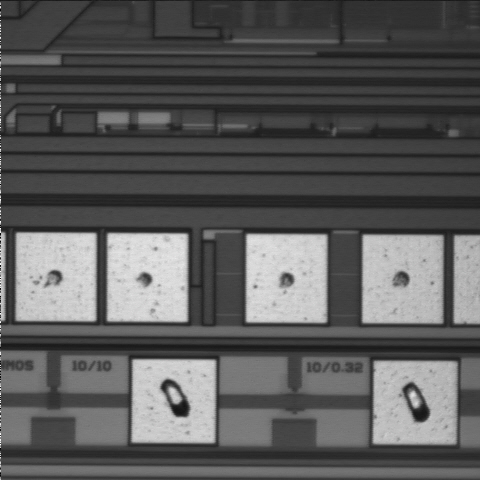pad: (16, 233, 96, 321), (108, 234, 187, 322), (247, 234, 326, 322), (363, 235, 442, 323), (132, 360, 215, 443), (374, 362, 455, 443)
